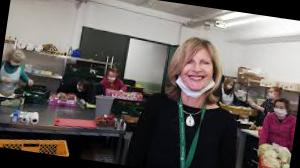mask_weared_incorrect: (180, 59, 216, 102)
with_mask: (273, 103, 288, 117), (8, 59, 22, 68), (107, 73, 118, 83), (267, 89, 277, 99), (224, 82, 235, 91)
